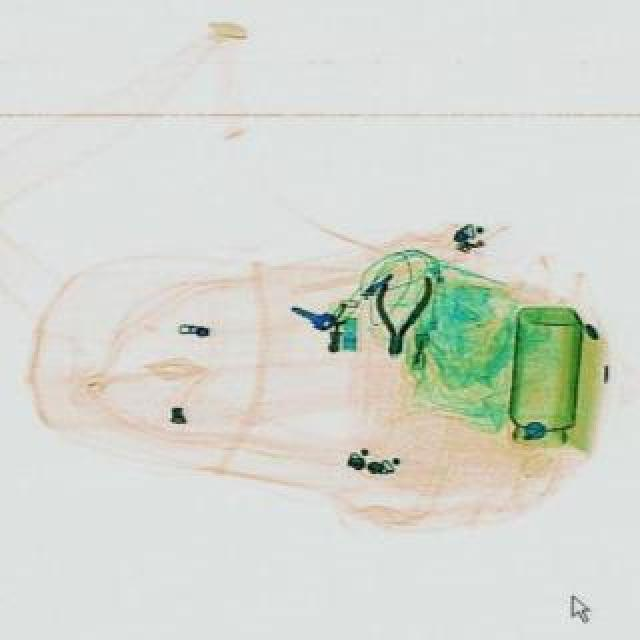wrench: (366, 270, 434, 360)
